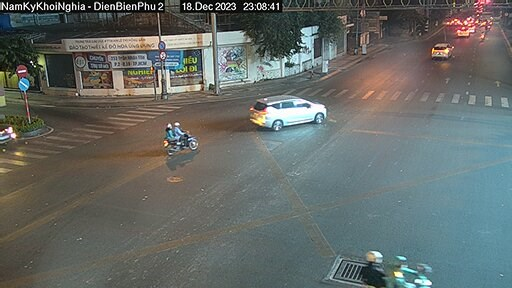car: (247, 89, 331, 129), (431, 39, 458, 62)
motorbike: (150, 122, 201, 163)
